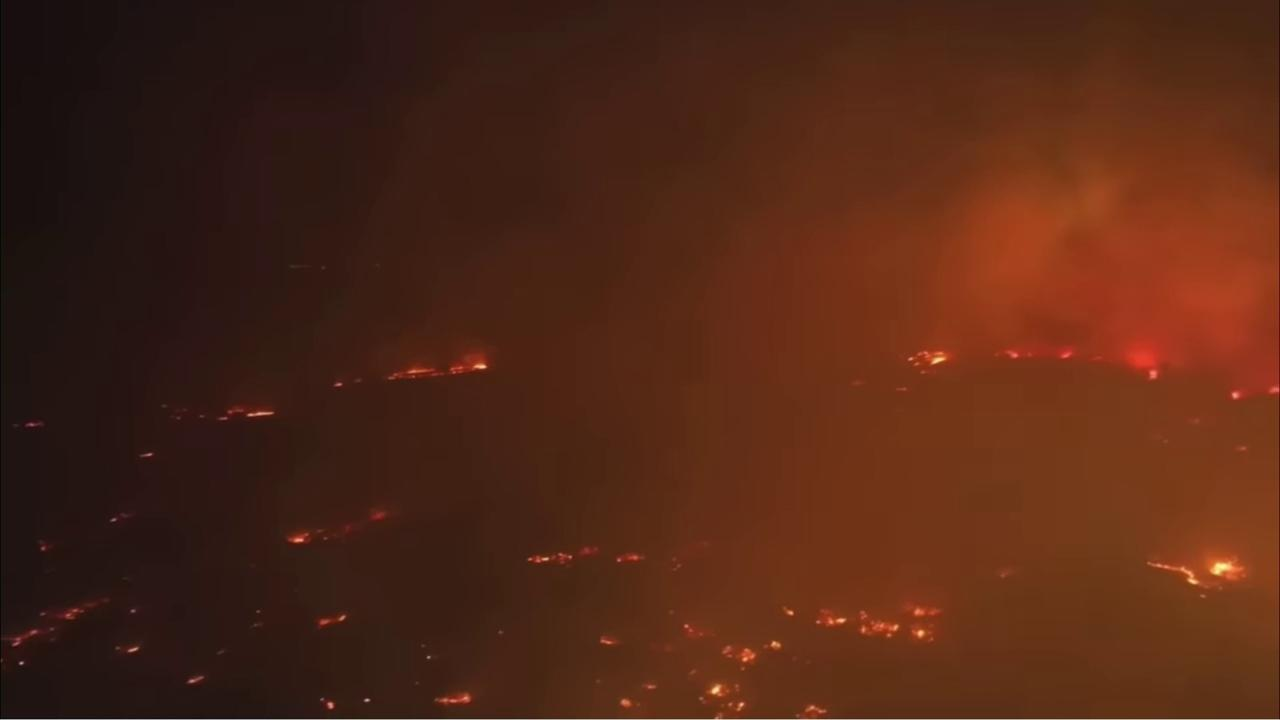fire: (0, 590, 112, 666), (1143, 549, 1254, 591), (384, 362, 489, 383), (525, 542, 600, 567), (705, 682, 746, 718), (909, 601, 945, 642), (993, 345, 1077, 362), (855, 607, 899, 639), (903, 348, 951, 376), (722, 641, 759, 671), (216, 406, 276, 422), (313, 612, 349, 635), (813, 606, 848, 628), (432, 690, 474, 708), (792, 701, 830, 719), (613, 551, 641, 568), (681, 621, 707, 639), (285, 530, 312, 546), (183, 673, 207, 689), (366, 510, 388, 527), (1144, 367, 1163, 383), (619, 695, 637, 710), (124, 643, 143, 657), (596, 634, 618, 646), (778, 603, 798, 616), (765, 639, 783, 653), (1229, 387, 1244, 403), (22, 421, 46, 430), (1266, 384, 1280, 398), (137, 451, 156, 460), (326, 698, 338, 712), (644, 681, 659, 692), (106, 516, 120, 527), (330, 381, 346, 390), (40, 544, 49, 554)
smoke: (0, 0, 1280, 720)
